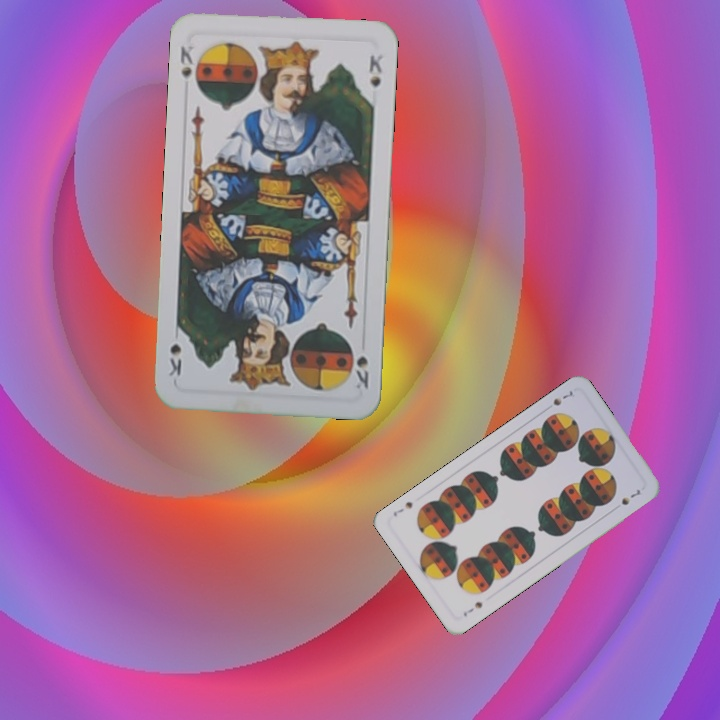S7: (549, 386, 576, 408), (459, 597, 485, 619)
SK: (176, 41, 203, 94), (351, 352, 371, 392)
